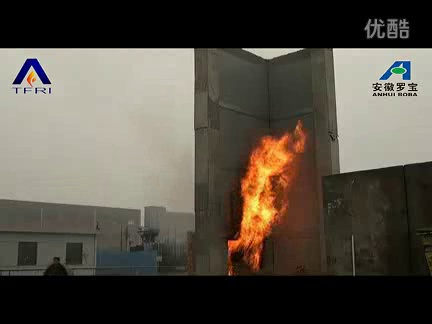fire: (222, 115, 309, 272)
